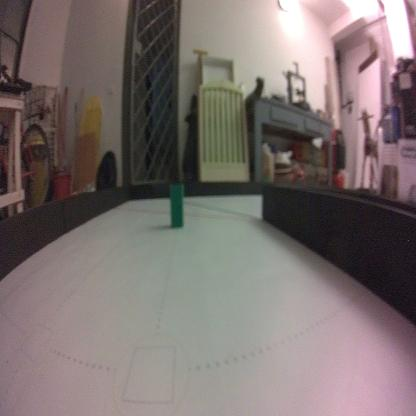green: (167, 182, 186, 230)
